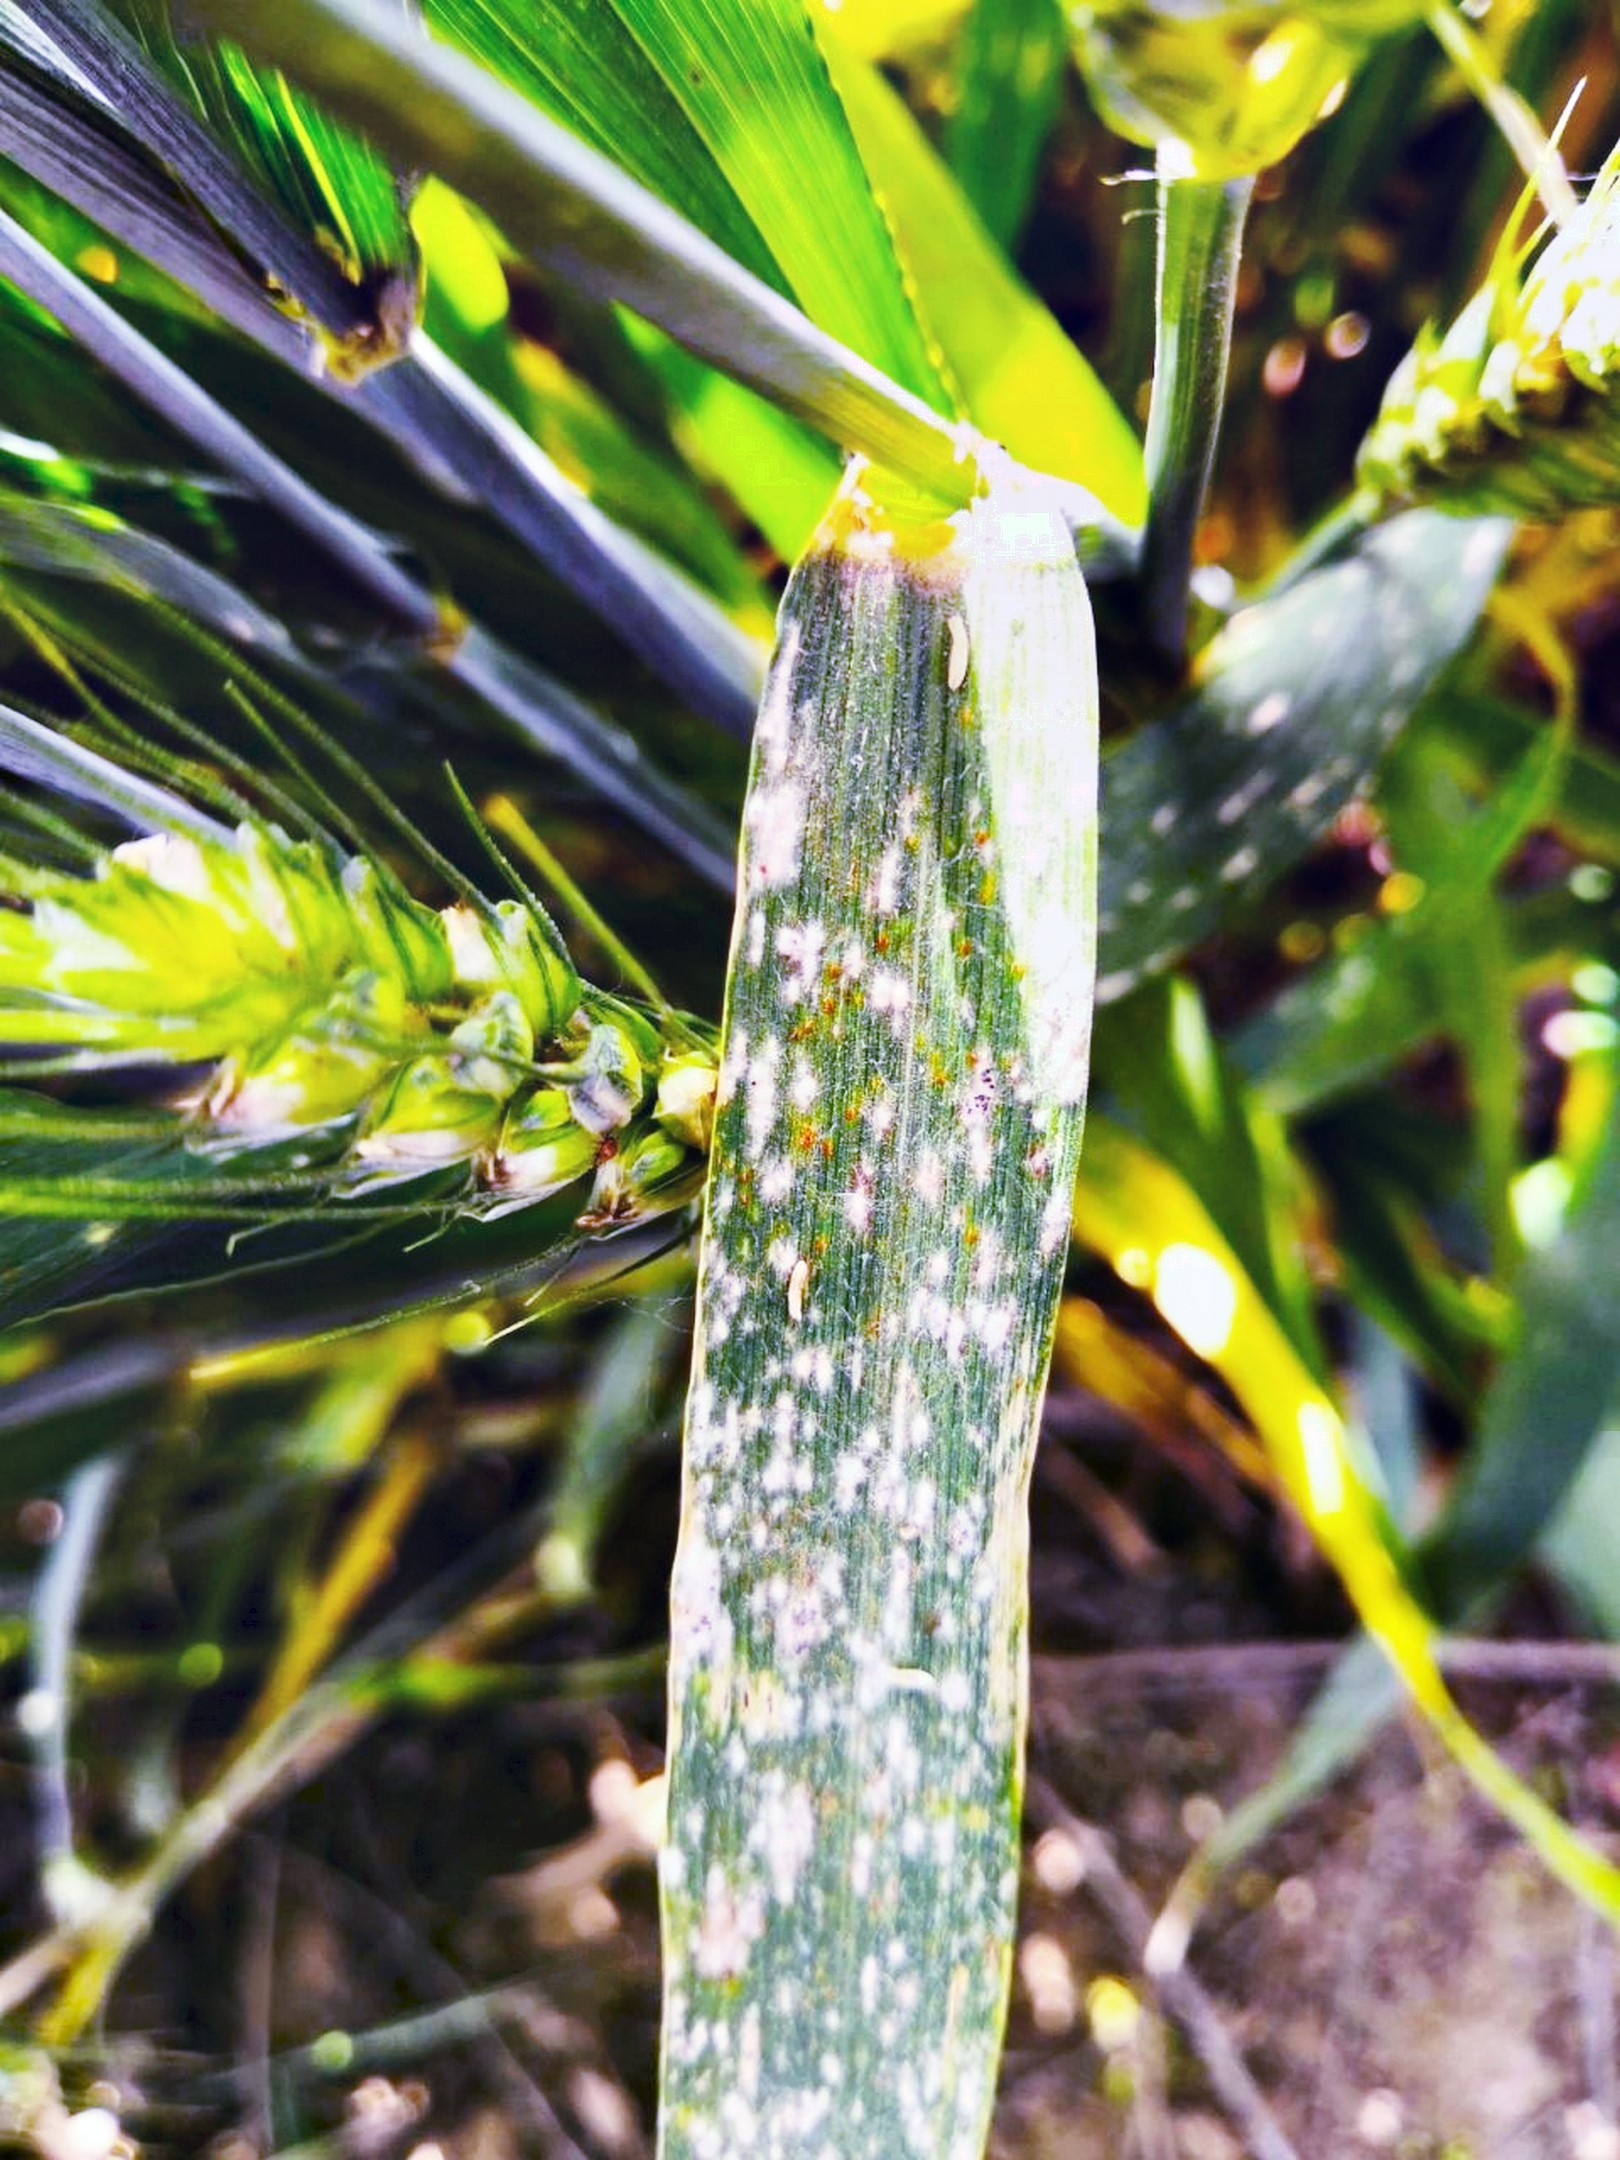Powdery Mildew: (626, 859, 1101, 2140)
